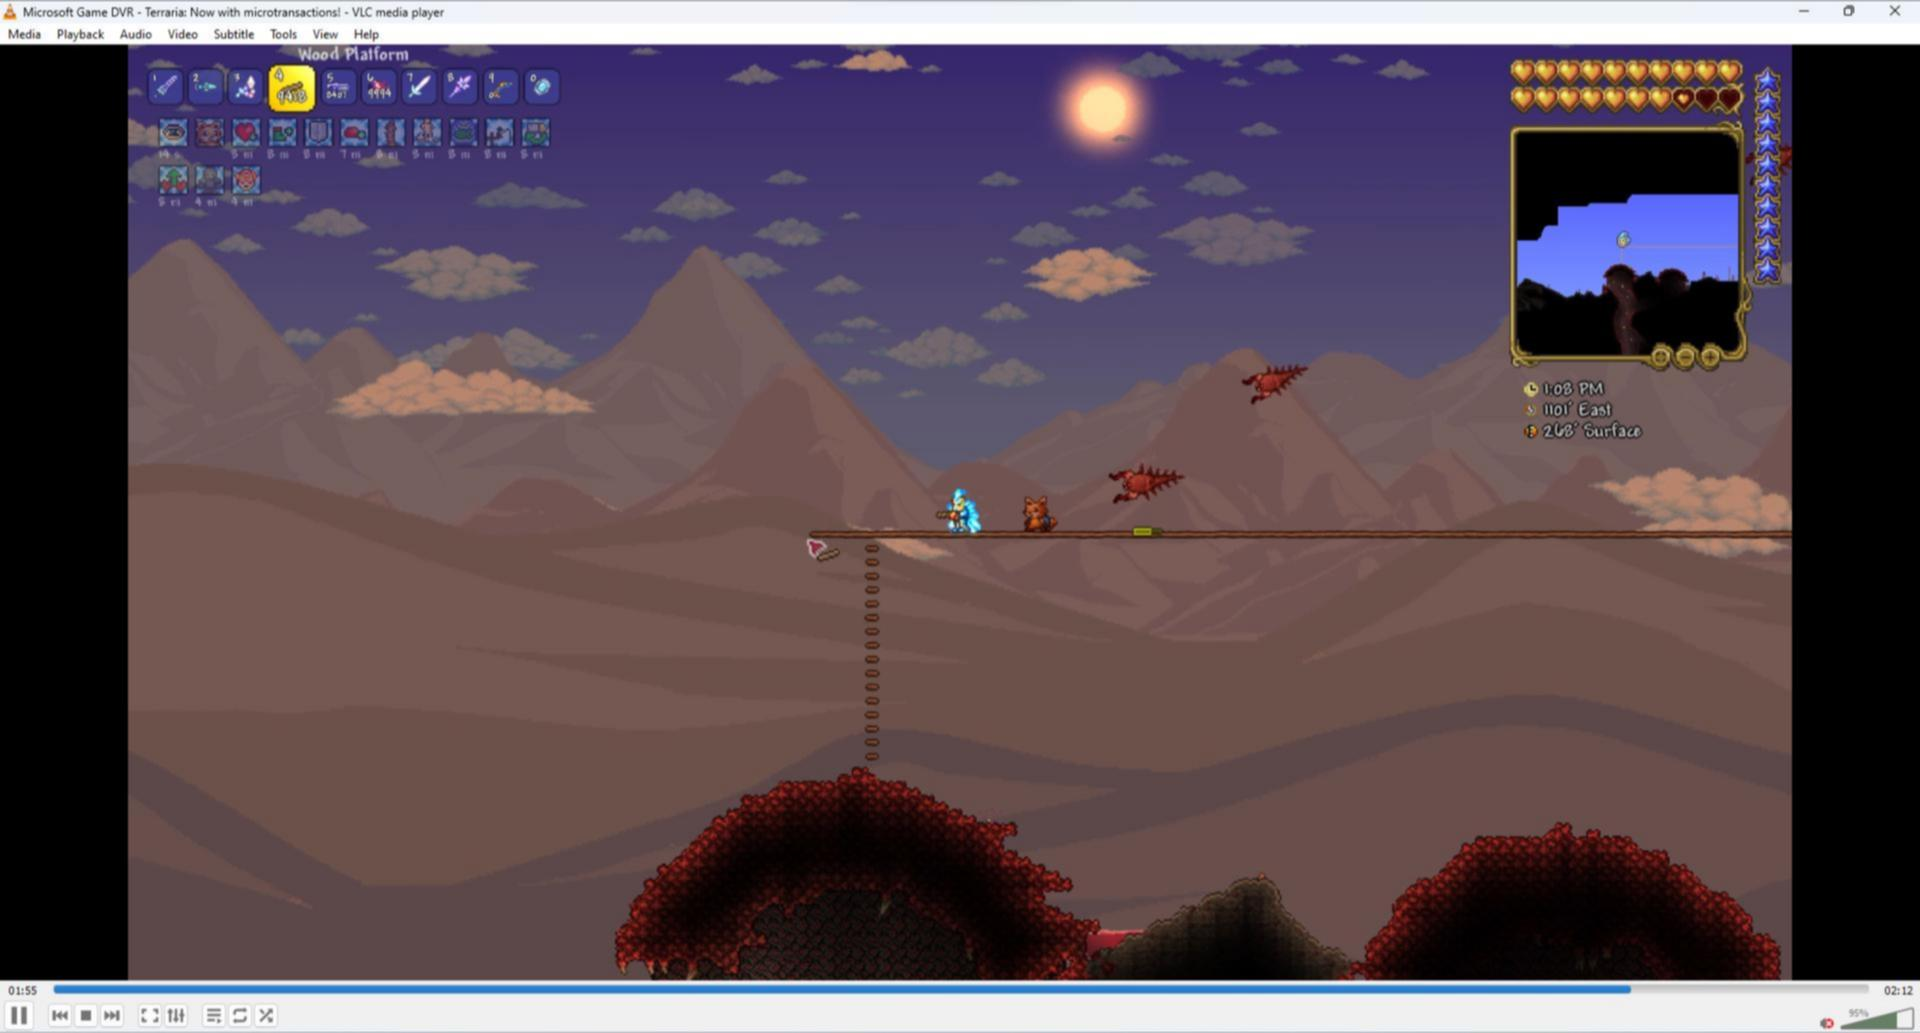crimera: (1235, 356, 1315, 410), (1104, 466, 1191, 505)
